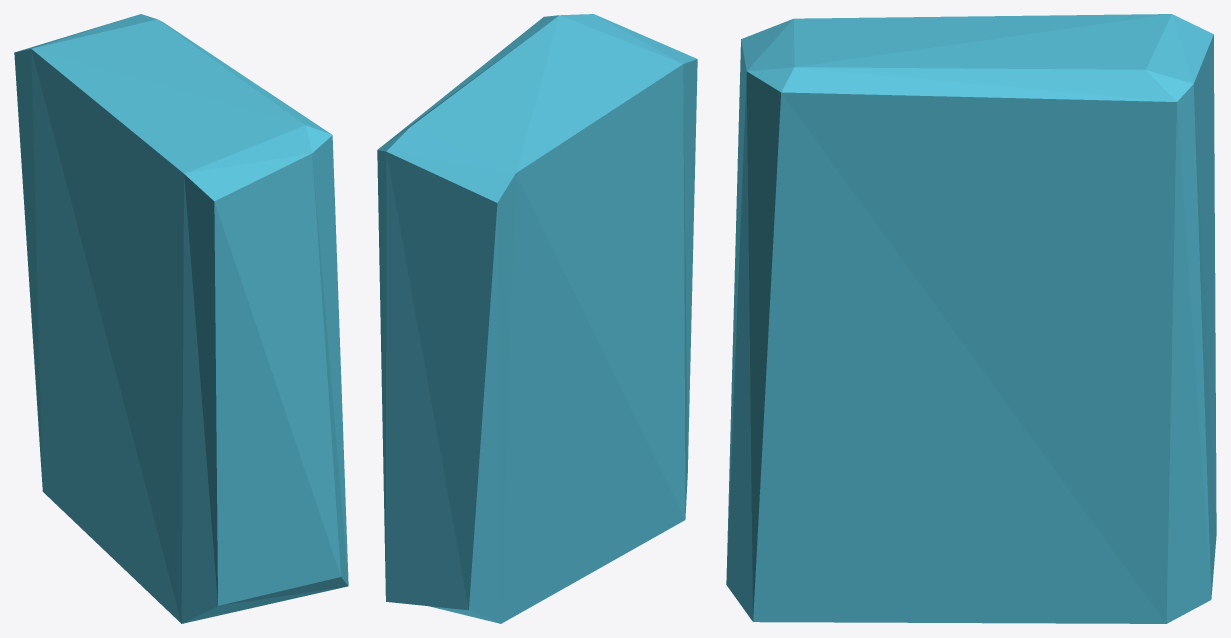
Rendered from brick_07.FBX.
3 views of the same model, side by side, from view 1: azimuth 30°, elevation 25°; view 2: azimuth 150°, elevation 25°; view 3: azimuth 270°, elevation 25° (orthographic). The views are drawn at different scales.
Visible parts, largest first — view 1: brick_07; view 2: brick_07; view 3: brick_07.
Part boxes in pixels (bbox=[...]): brick_07: bbox=[14, 14, 348, 623]; brick_07: bbox=[377, 14, 697, 623]; brick_07: bbox=[726, 14, 1216, 623].
Size of the model in its own units: 7.17 by 21.43 by 17.11.
